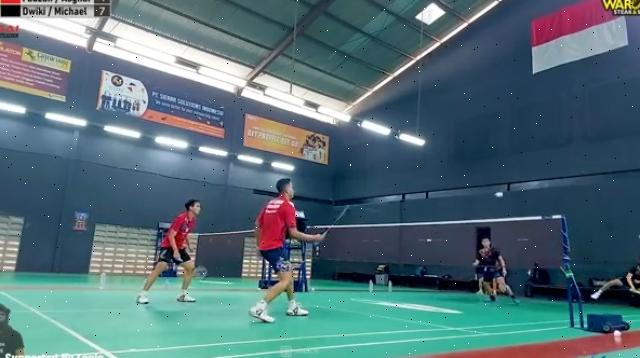Shuttlecock: (493, 189, 505, 199)
